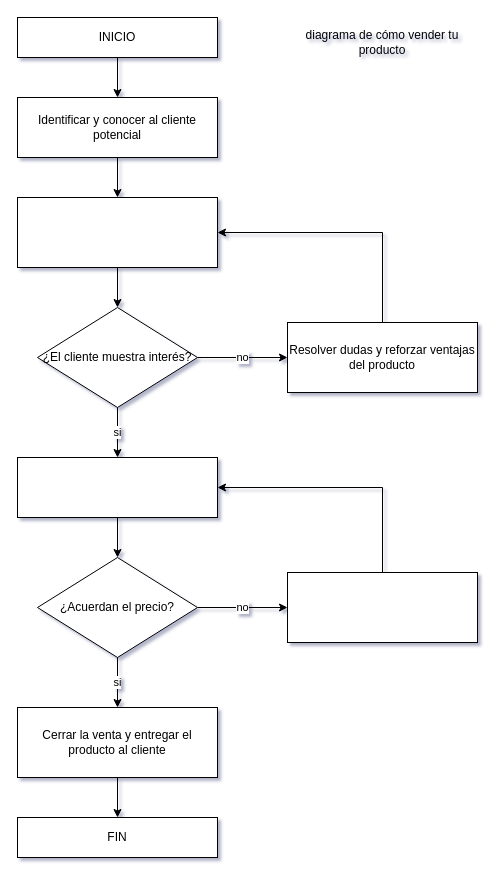
The diagram is 501 pixels wide and 881 high, and some of its shapes have lost their labels. Here are the shapes that lost their labels. From the top down, the box of each, then its label:
(16, 196, 218, 268): Presentar el producto y destacar sus beneficios
(16, 456, 218, 518): Negociar precio y forma de pago
(286, 572, 478, 642): Ofrecer descuento, promoción o forma de pago flexible
